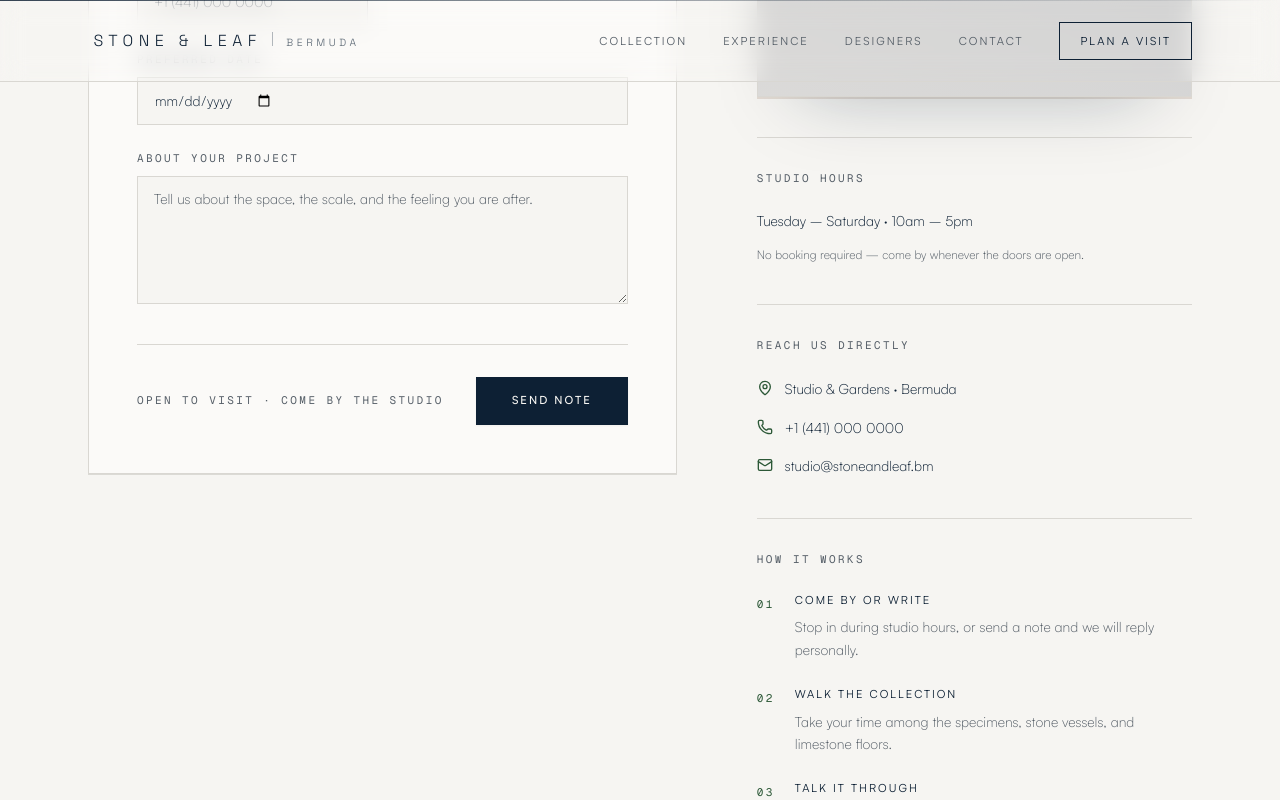
contact page › blocks submission and reports every missing field
(page scrolled)
Click the button with test id "contact.submit_button".
click(552, 400)  # box [476,376,628,424]
(page scrolled)
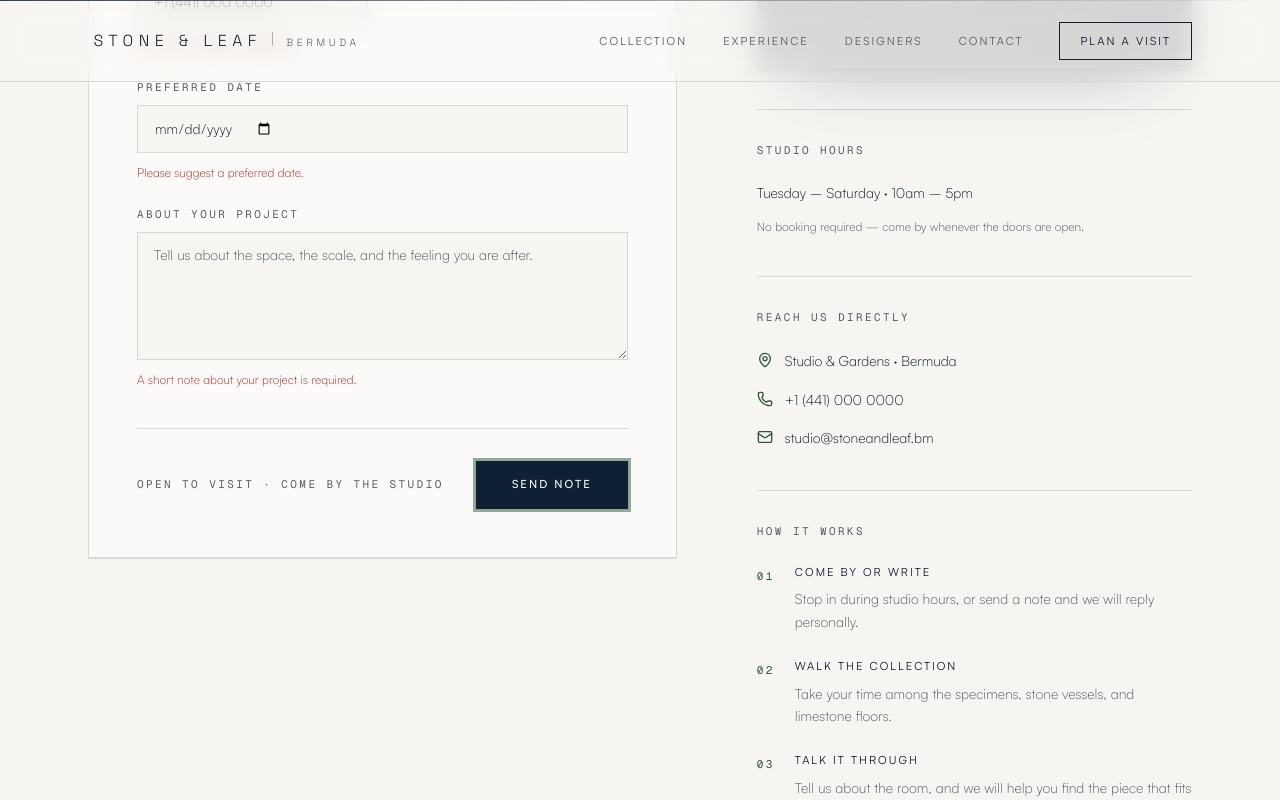
Expected: the text with test id "contact.phone_error" reads "A contact number is required.", [137,38,289,52]
Expected: the text with test id "contact.preferredDate_error" reads "Please suggest a preferred date.", [137,164,304,180]
Expected: the text with test id "contact.message_error" reads "A short note about your project is required.", [137,372,357,386]
